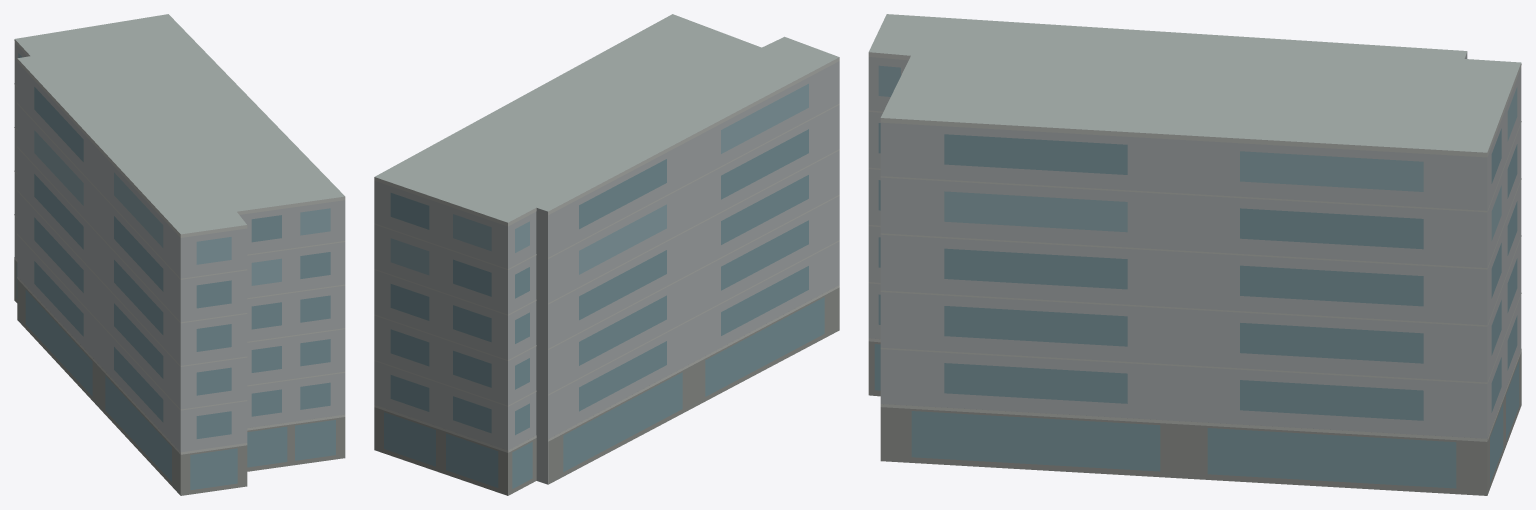
Rendered from survey-upis-32510300.glb.
The picture shows the model from 3 angles, left to right: view 1: azimuth 30°, elevation 25°; view 2: azimuth 150°, elevation 25°; view 3: azimuth 270°, elevation 25°; orthographic projection. The views are drawn at different scales.
Visible parts, largest first — view 1: survey-upis-32510300.tmp; view 2: survey-upis-32510300.tmp; view 3: survey-upis-32510300.tmp.
Part boxes in pixels (bbox=[...]): survey-upis-32510300.tmp: bbox=[14, 14, 345, 495]; survey-upis-32510300.tmp: bbox=[374, 14, 839, 495]; survey-upis-32510300.tmp: bbox=[868, 14, 1521, 495].
Bounding box in the file's own units: 15.37 × 17.7 × 30.54.
